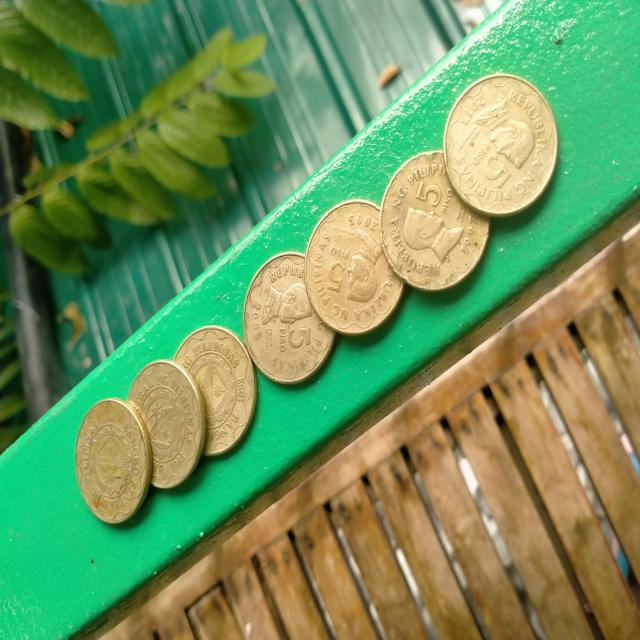5_Old_Back: (72, 412, 152, 518), (136, 369, 203, 489), (187, 341, 259, 444)
5_Old_Front: (458, 81, 550, 198), (303, 211, 402, 318), (389, 170, 477, 284), (243, 264, 331, 358)
